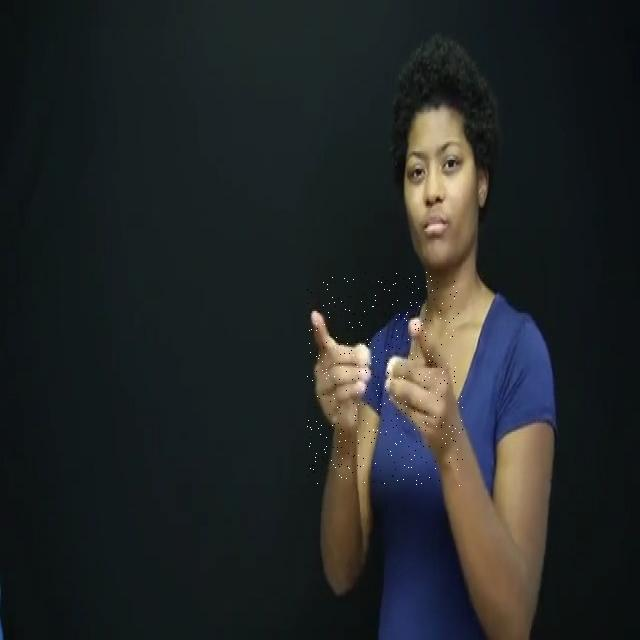sweet: (305, 272, 463, 486)
